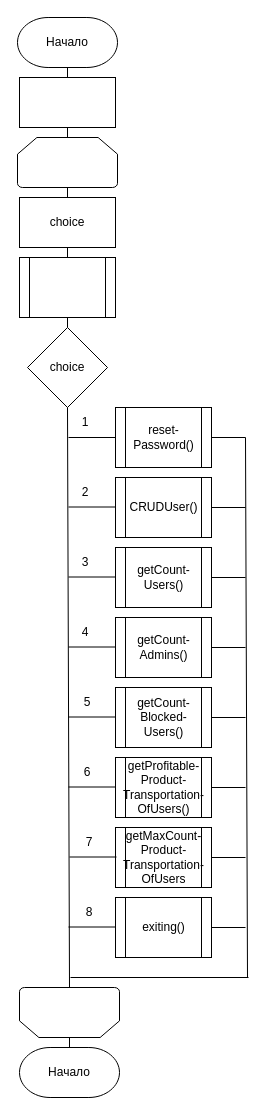
Some shapes in this 267 by 1115 pixel diagram are drawn without their labels. Each missing label, with the centre of its shape:
"inputFirst-Natural(8, ADMINMENU)" belongs at pixel 67 287.
"menuIsWork = 1" belongs at pixel 67 102.
"Выбор" belongs at pixel 69 1012.
"Выбор menuIsWork == 1" belongs at pixel 67 162.
